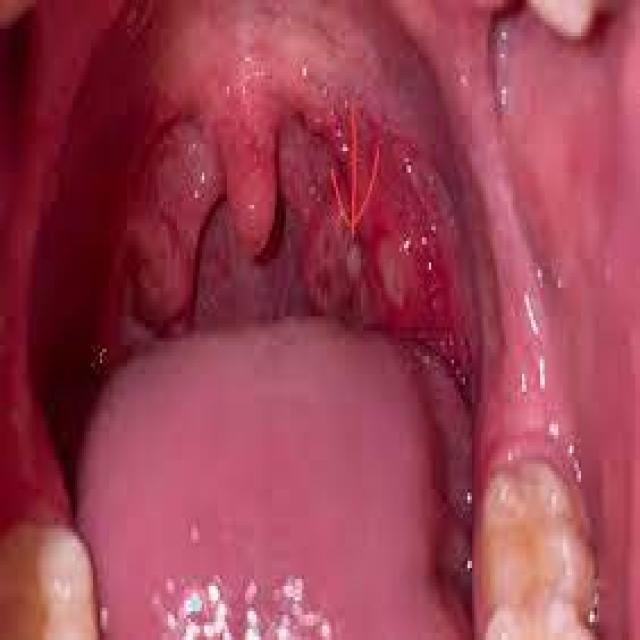processing_area: (5, 0, 638, 636)
ulcer-detection: (329, 190, 443, 332)
